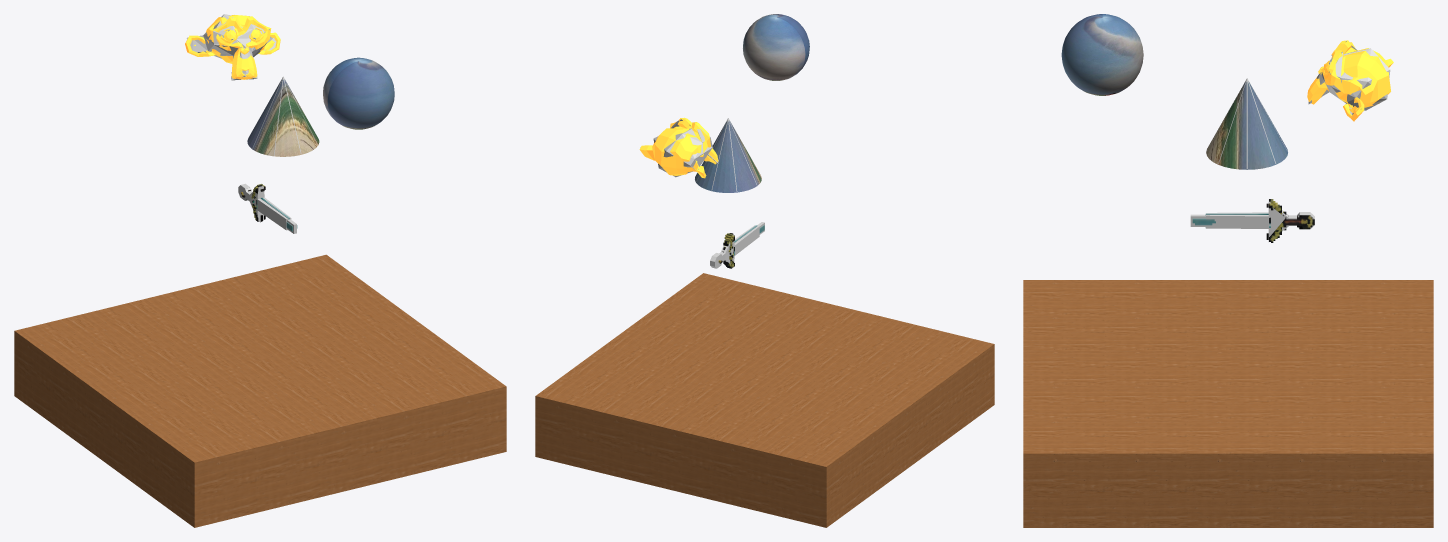
The model's file is map2.glb.
The picture shows the model from 3 angles, left to right: view 1: azimuth 30°, elevation 25°; view 2: azimuth 150°, elevation 25°; view 3: azimuth 270°, elevation 25°; orthographic projection. The views are drawn at different scales.
Parts seen in each view (by area): view 1: castlefloor, Sphere, Cone, monkey, monkey_col, sword_col; view 2: castlefloor, Sphere, Cone, monkey, monkey_col, sword_col; view 3: castlefloor, Sphere, Cone, monkey, sword_col, monkey_col, sword, Cone_col.
Part boxes in pixels (left/top/right/bottom): castlefloor: left=14, top=254, right=506, bottom=527; Sphere: left=323, top=57, right=394, bottom=129; Cone: left=247, top=79, right=319, bottom=156; monkey: left=185, top=15, right=280, bottom=79; monkey_col: left=186, top=14, right=276, bottom=80; sword_col: left=238, top=183, right=296, bottom=233; castlefloor: left=535, top=273, right=994, bottom=527; Sphere: left=743, top=14, right=809, bottom=80; Cone: left=695, top=120, right=761, bottom=192; monkey: left=639, top=117, right=718, bottom=178; monkey_col: left=653, top=119, right=718, bottom=177; sword_col: left=710, top=222, right=764, bottom=268; castlefloor: left=1023, top=280, right=1433, bottom=527; Sphere: left=1061, top=14, right=1143, bottom=95; Cone: left=1206, top=81, right=1287, bottom=169; monkey: left=1307, top=40, right=1393, bottom=121; sword_col: left=1190, top=199, right=1314, bottom=241; monkey_col: left=1308, top=41, right=1390, bottom=115; sword: left=1192, top=199, right=1314, bottom=242; Cone_col: left=1206, top=78, right=1287, bottom=168.
Bounding box in the file's own units: 10 × 12.03 × 10.
Materials: 4 (3 with a texture image).
